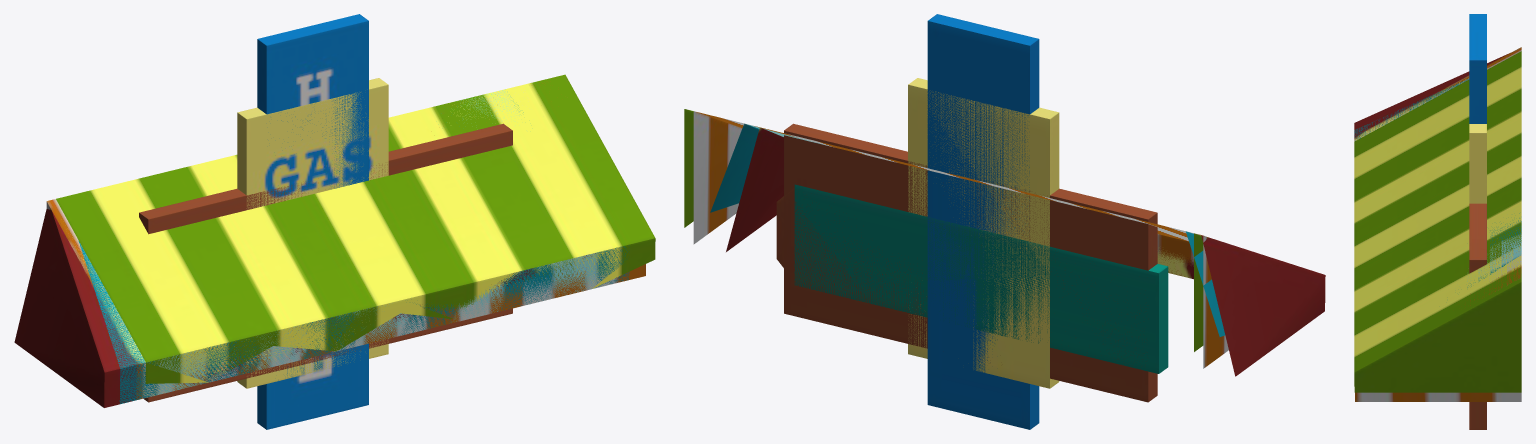
The model's file is cac bien hieu.fbx.
The picture shows the model from 3 angles, left to right: view 1: azimuth 30°, elevation 25°; view 2: azimuth 150°, elevation 25°; view 3: azimuth 270°, elevation 25°; orthographic projection. The views are drawn at different scales.
Visible parts, largest first — view 1: pPlane18, pCube60, pCube58, pPlane20, pPlane17, pCube57, pPlane19; view 2: pCube59, pCube60, pCube57, pCube58, pPlane20, pPlane19, pPlane17, pPlane18, pCube61; view 3: pPlane18, pPlane19, pCube60, pCube57, pPlane20, pPlane17, pCube58.
Boxes of the visible parts, x1,y1,x2,y2 form: pPlane18: (56,74,655,383); pCube60: (257,14,368,429); pCube58: (237,78,388,388); pPlane20: (14,96,595,407); pPlane17: (78,89,629,404); pCube57: (139,123,512,402); pPlane19: (46,82,645,399); pCube59: (794,184,1168,373); pCube60: (927,14,1039,429); pCube57: (784,123,1157,402); pCube58: (908,78,1059,388); pPlane20: (726,127,1325,376); pPlane19: (693,111,1228,368); pPlane17: (710,123,1225,336); pPlane18: (684,109,1203,351); pCube61: (776,188,882,295); pPlane18: (1354,51,1521,392); pPlane19: (1354,47,1521,401); pCube60: (1469,14,1486,123); pCube57: (1469,203,1486,429); pPlane20: (1354,52,1511,141); pPlane17: (1354,79,1521,287); pCube58: (1469,124,1486,203).
Bounding box in the file's own units: 525 × 350 × 149.
